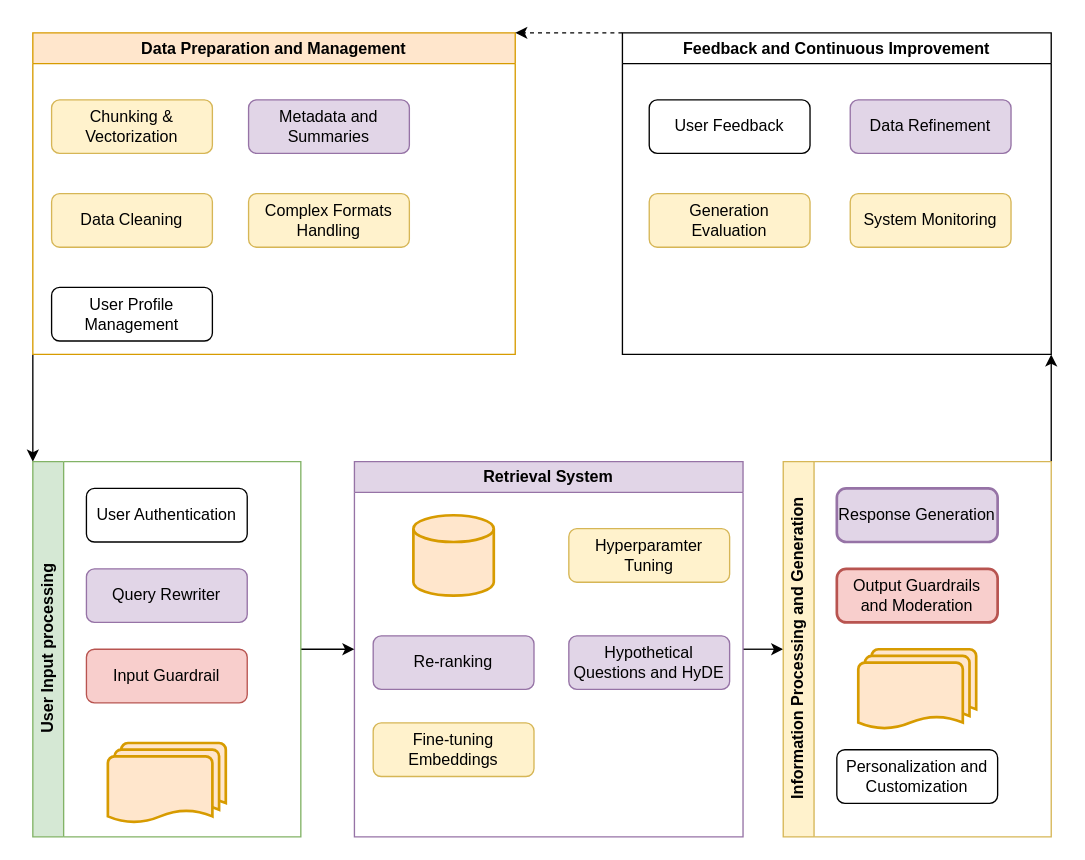
Some shapes in this 1085 by 860 pixel diagram are drawn without their labels. The centre of each missing label's shape, as x and y in pixels:
"Caching" goes at pixel 916 688.
"chat history" goes at pixel 166 782.
"Indicies" goes at pixel 452 554.
